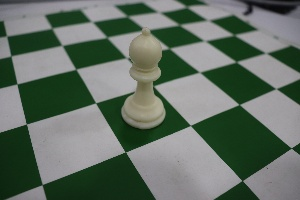white_bishop: (110, 17, 176, 133)
